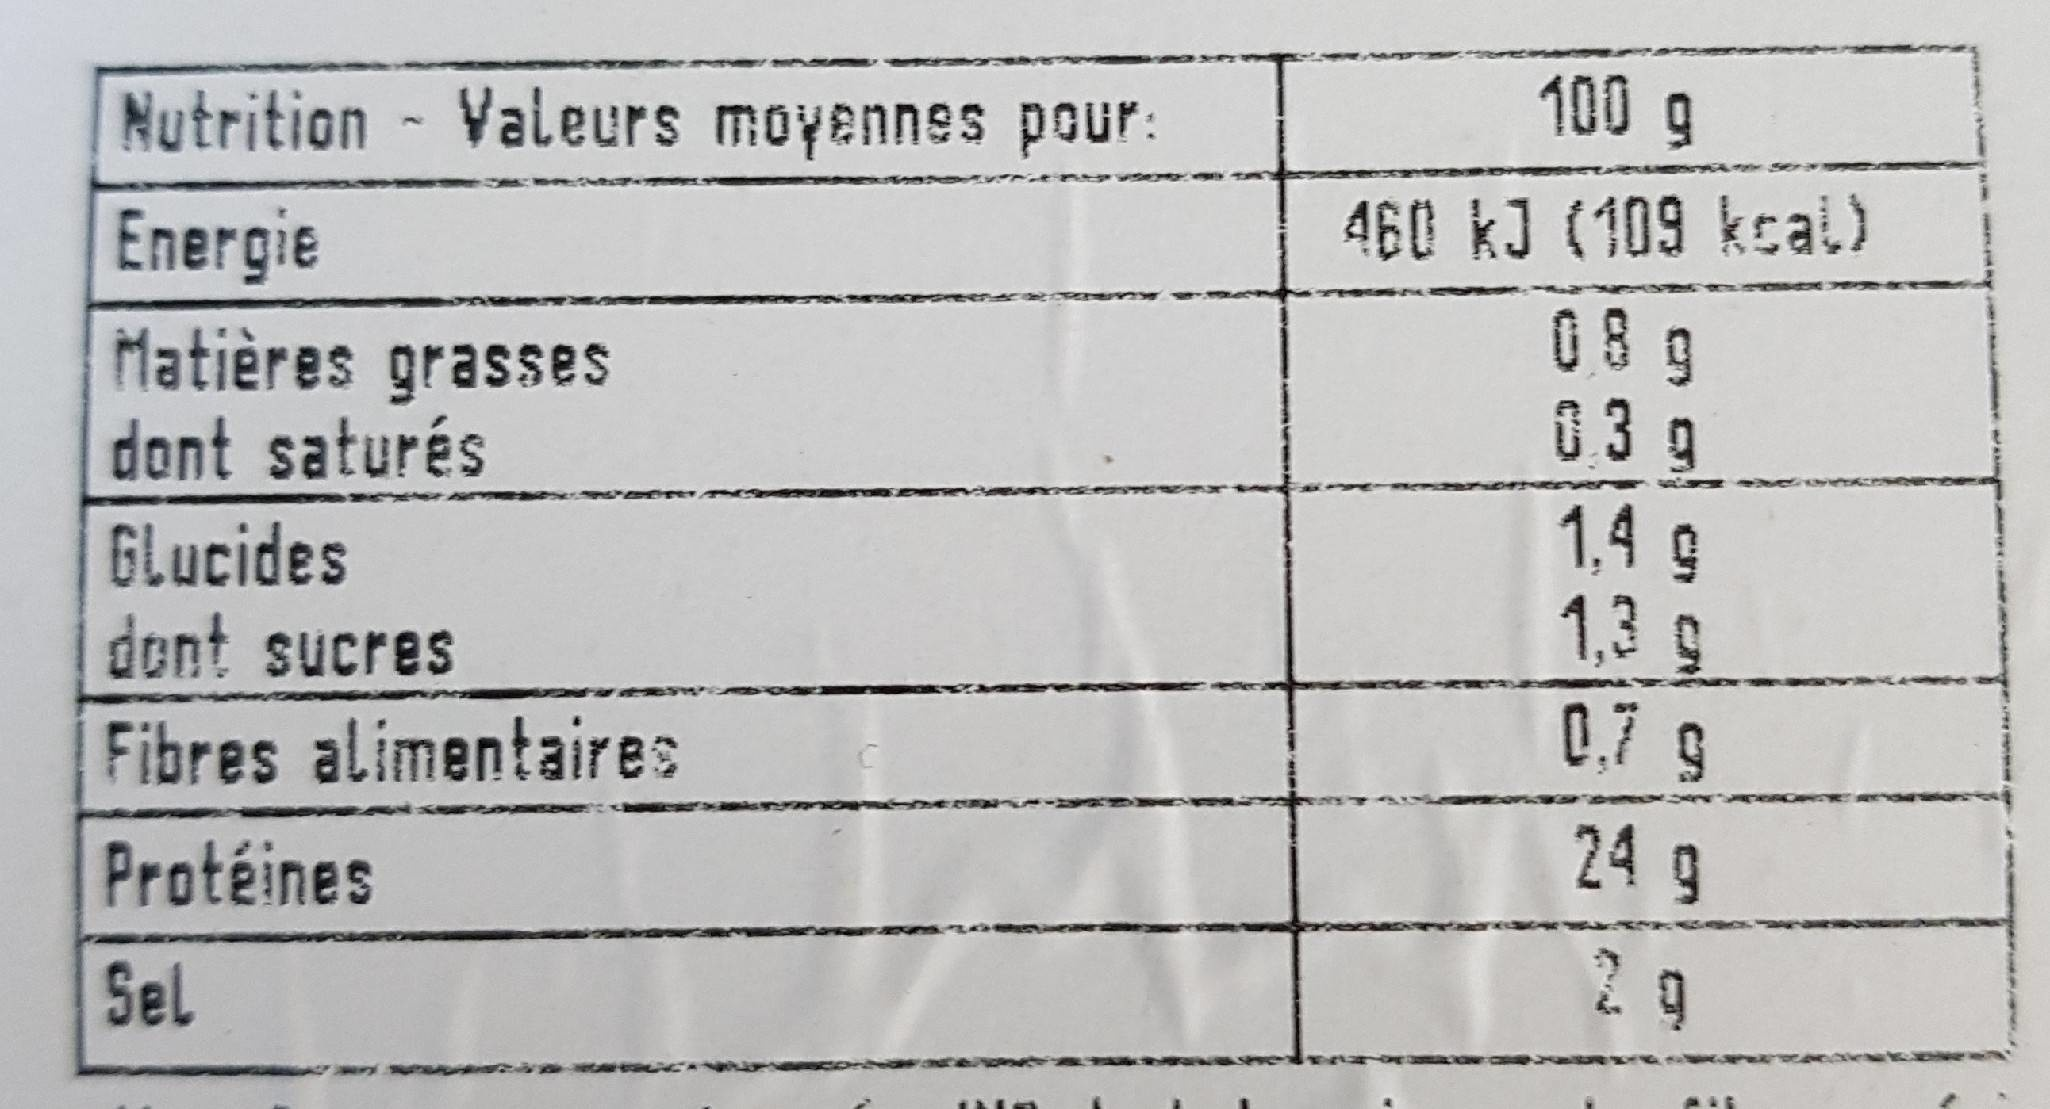column: (87, 63, 1282, 1048), (1293, 63, 1961, 1053)
table: (94, 66, 2014, 1065)
